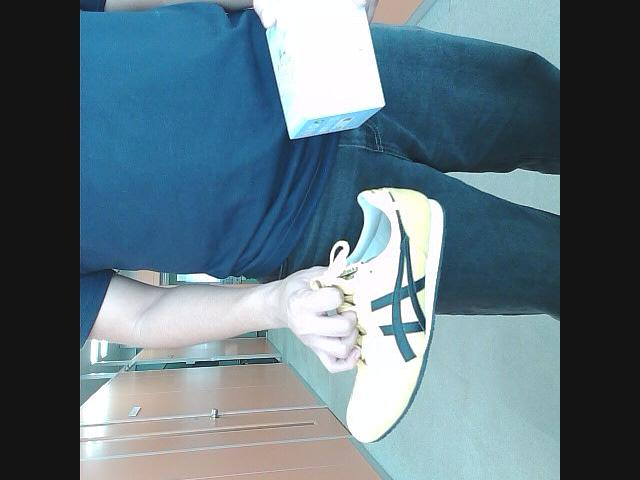Blind_box: (261, 0, 391, 137)
Shoes: (326, 185, 448, 441)
